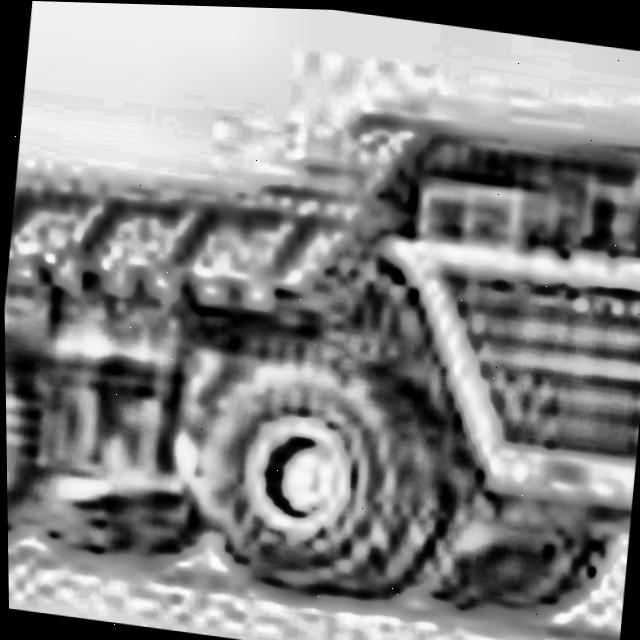dump_truck: (0, 7, 640, 640)
